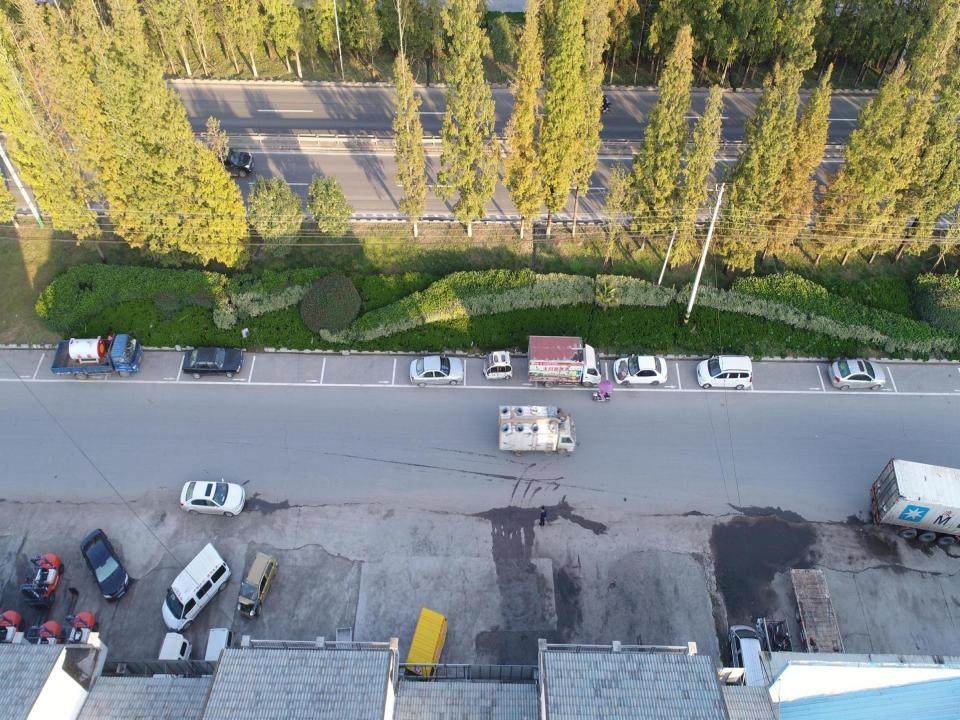car: (80, 529, 129, 600), (231, 551, 280, 622), (172, 476, 248, 520), (726, 620, 765, 702), (406, 347, 466, 387), (824, 356, 890, 391), (691, 357, 756, 392), (181, 345, 244, 379), (198, 142, 254, 180), (610, 354, 670, 386)
truck: (49, 325, 142, 379), (761, 612, 808, 698)
van: (160, 541, 232, 635), (402, 602, 448, 698), (146, 629, 192, 719), (197, 622, 240, 698)
